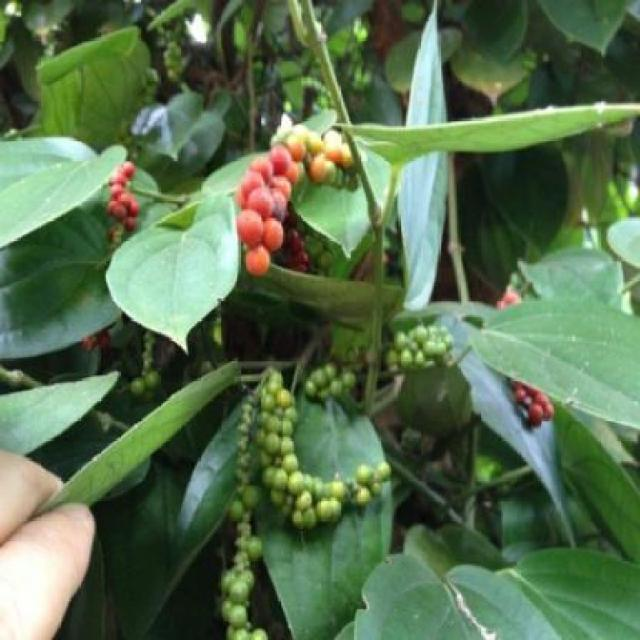RIPE: (237, 92, 329, 305), (111, 137, 137, 248)
UNRIPE: (238, 379, 391, 542)
